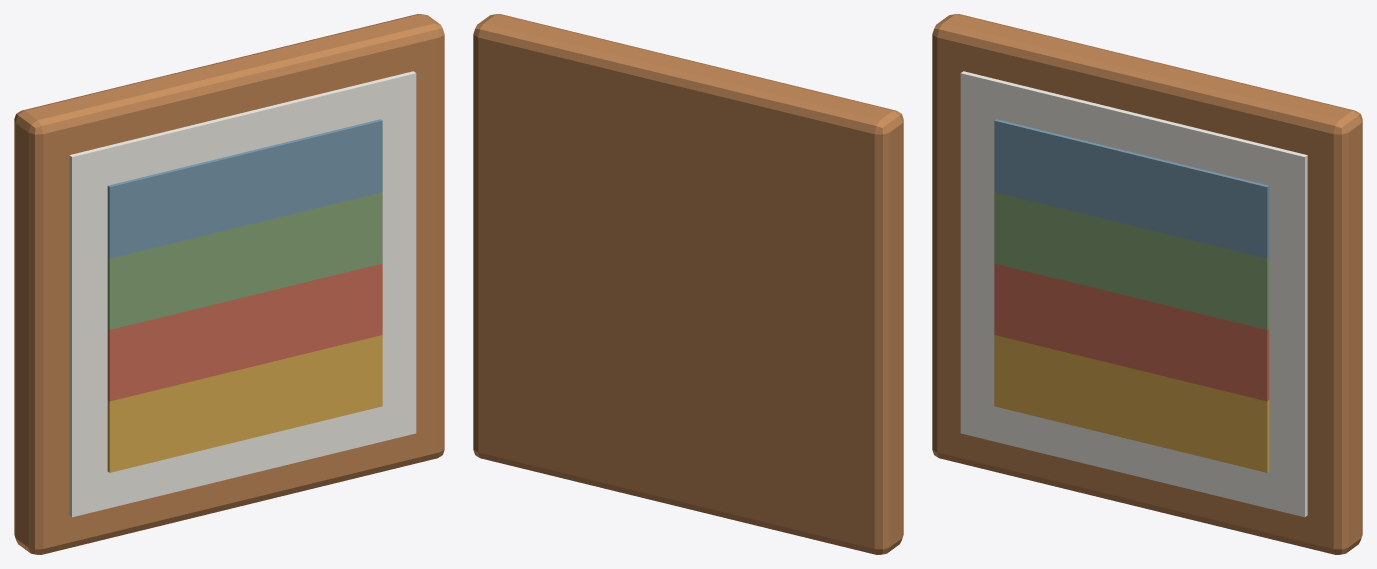
Rendered from picture_stripes.glb.
3 views of the same model, side by side, from view 1: azimuth 30°, elevation 25°; view 2: azimuth 150°, elevation 25°; view 3: azimuth 330°, elevation 25° (orthographic).
Visible parts, largest first — view 1: picture_stripes; view 2: picture_stripes; view 3: picture_stripes.
Part boxes in pixels (x1,y1,x2,y2): picture_stripes: (14,14,444,554); picture_stripes: (473,14,903,554); picture_stripes: (932,14,1362,554).
Bounding box in the file's own units: 0.35 × 0.35 × 0.042.
